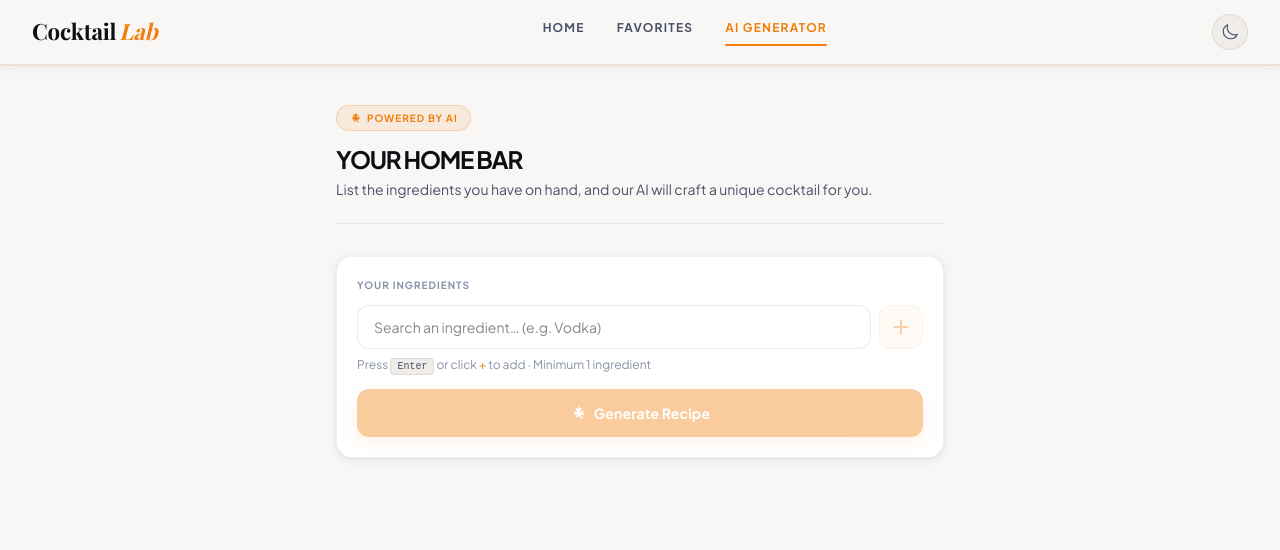
Test: GenerateAI view › removes an ingredient tag
Type "Mezcal" into the field with placeholder "Search an ingredient… (e.g. Vodka)" at [614, 327], box x1=357 y1=305 x2=871 y2=349
Then press Enter
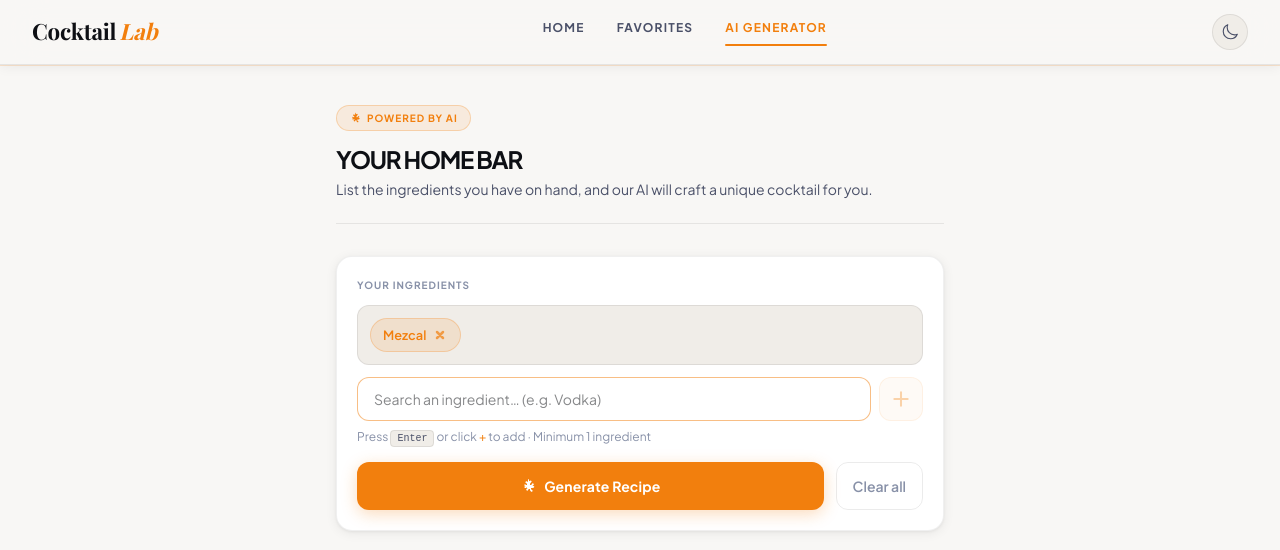
Click the button named "remove mezcal" at [440, 335], box x1=432 y1=327 x2=448 y2=343
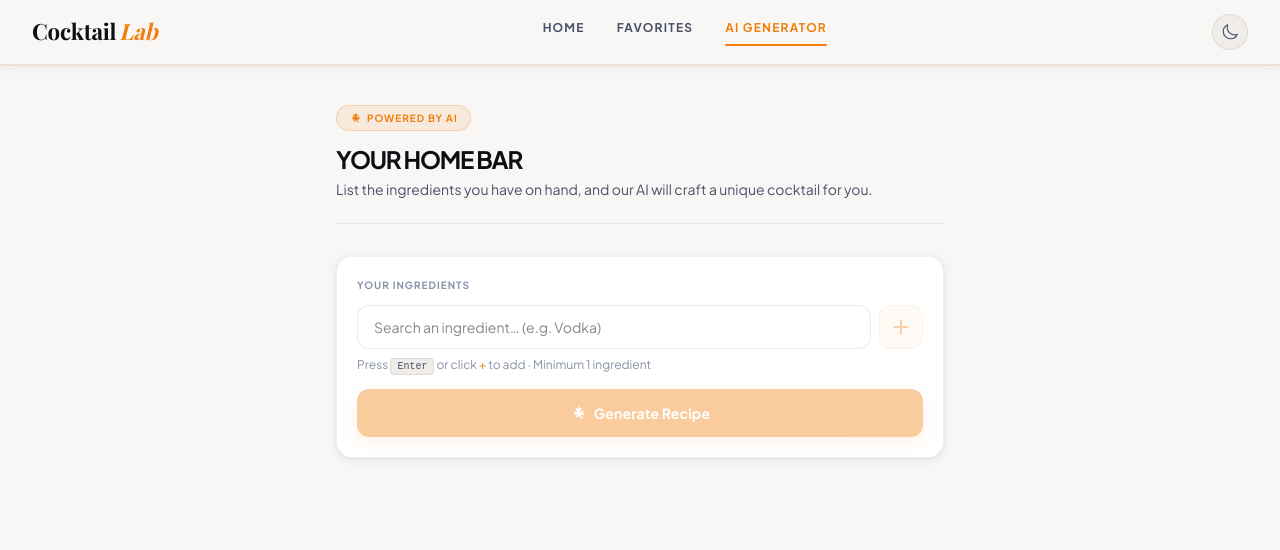
Expected: the text "Mezcal" is gone
